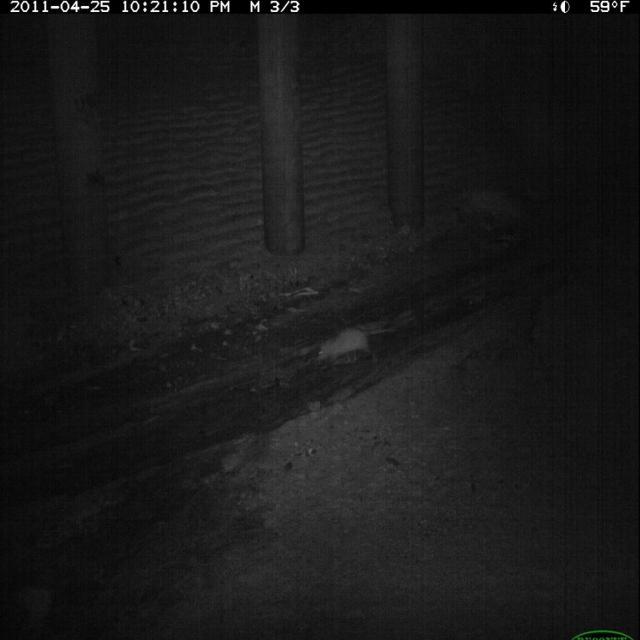opossum: (314, 322, 401, 372)
